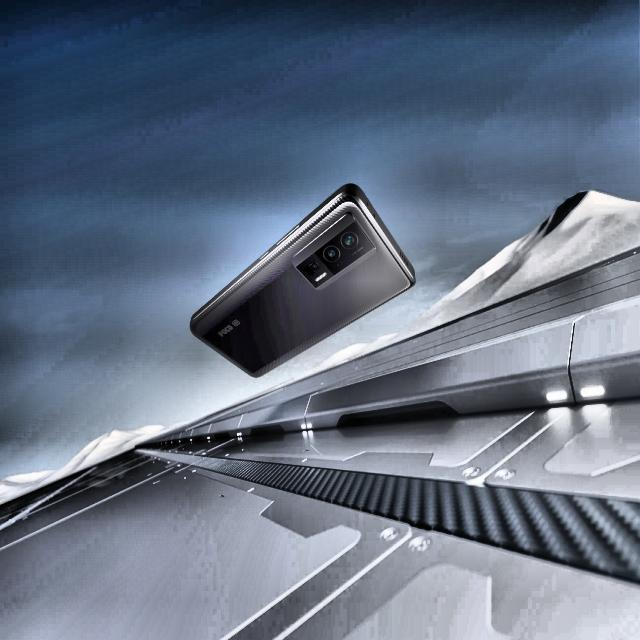Phone: (186, 180, 418, 382)
